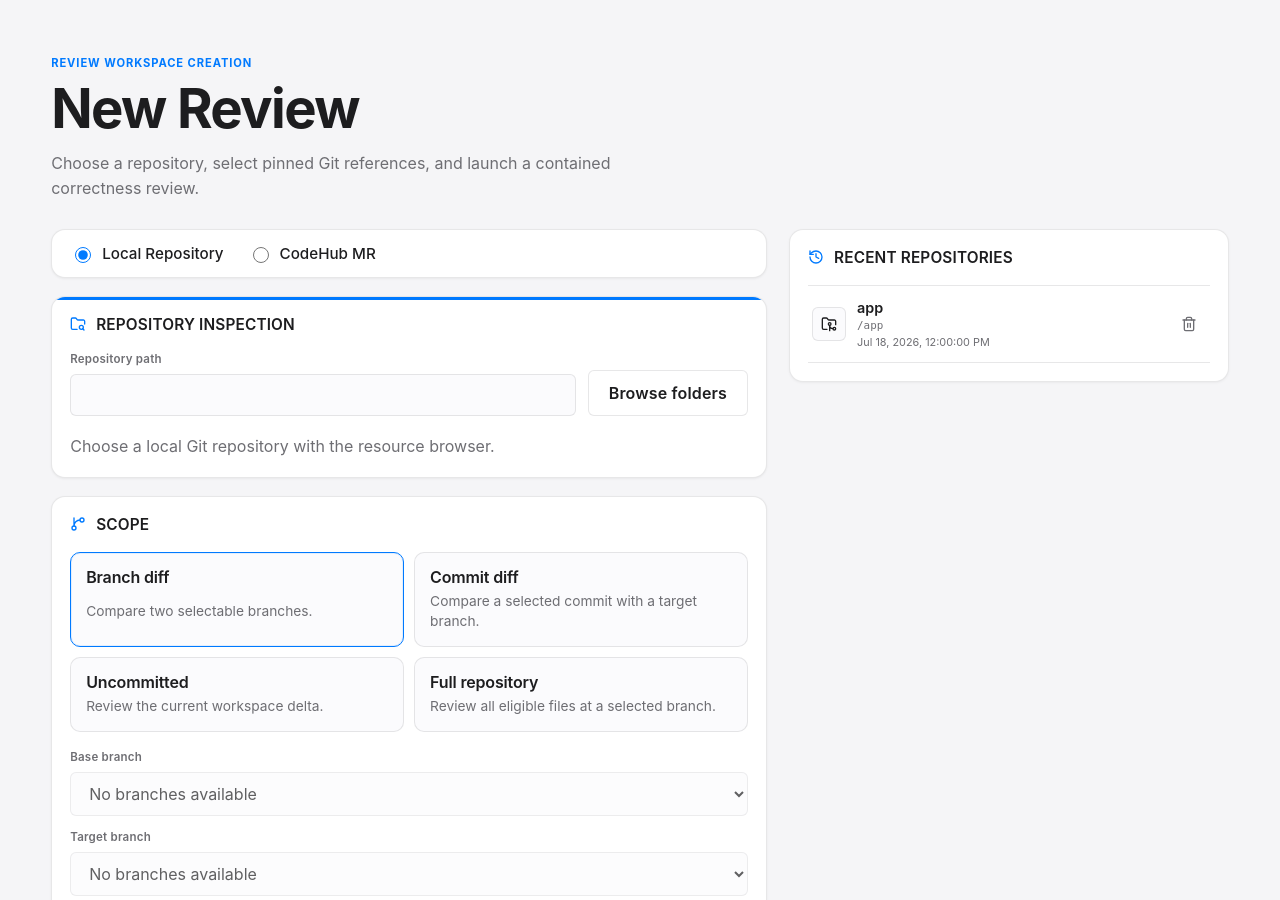
deletes a recent repository shortcut without selecting it
Click the button named "Remove recent repository app" at (1189, 324), box top-left (1172, 307), bottom-right (1206, 341)
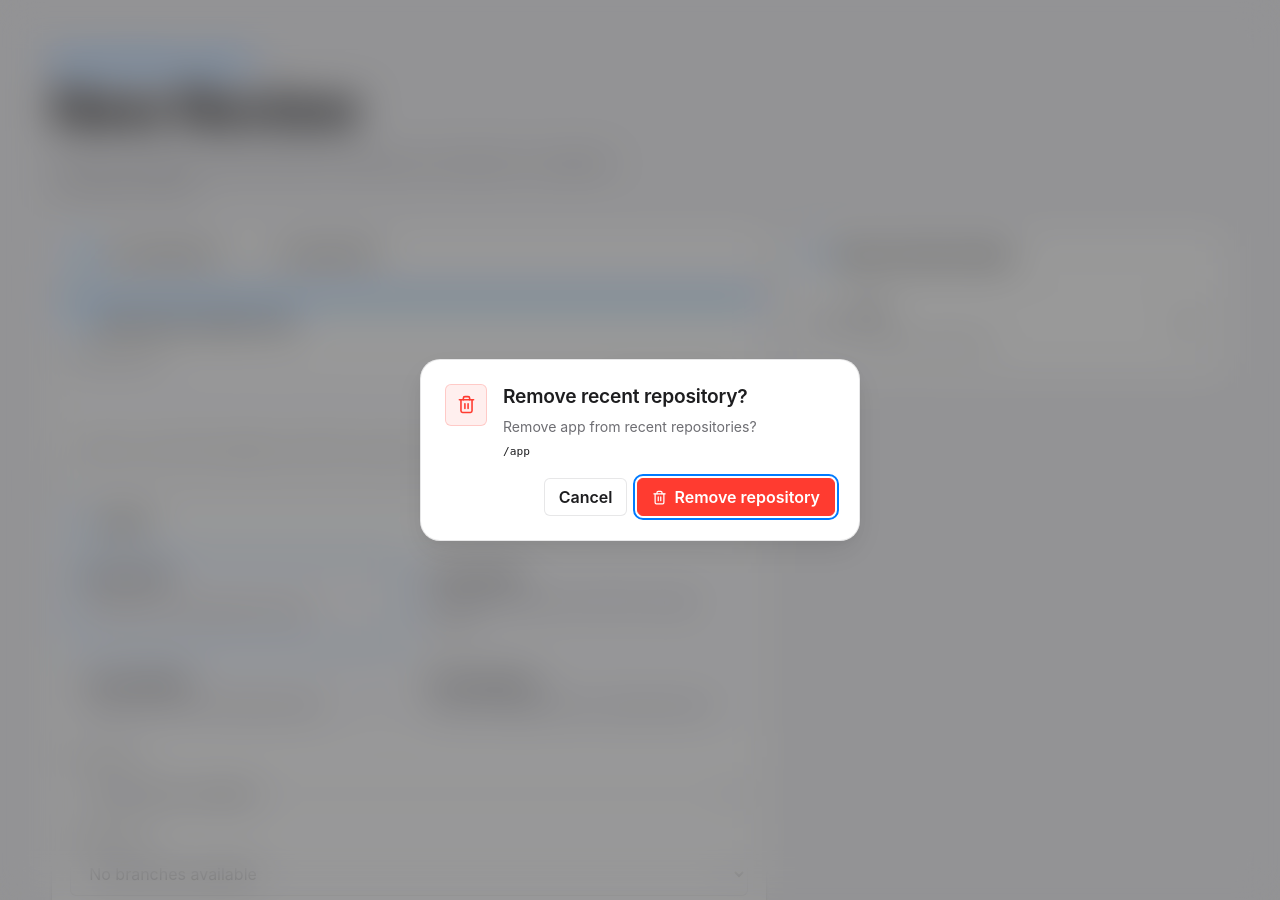
Expected: the dialog "Remove recent repository?" is shown, top-left (420, 359), bottom-right (860, 541)
Expected: the text "Remove app from recent repositories?" is shown, top-left (503, 418), bottom-right (757, 435)
Click the button "Remove repository" at (736, 497), box top-left (638, 478), bottom-right (835, 516)
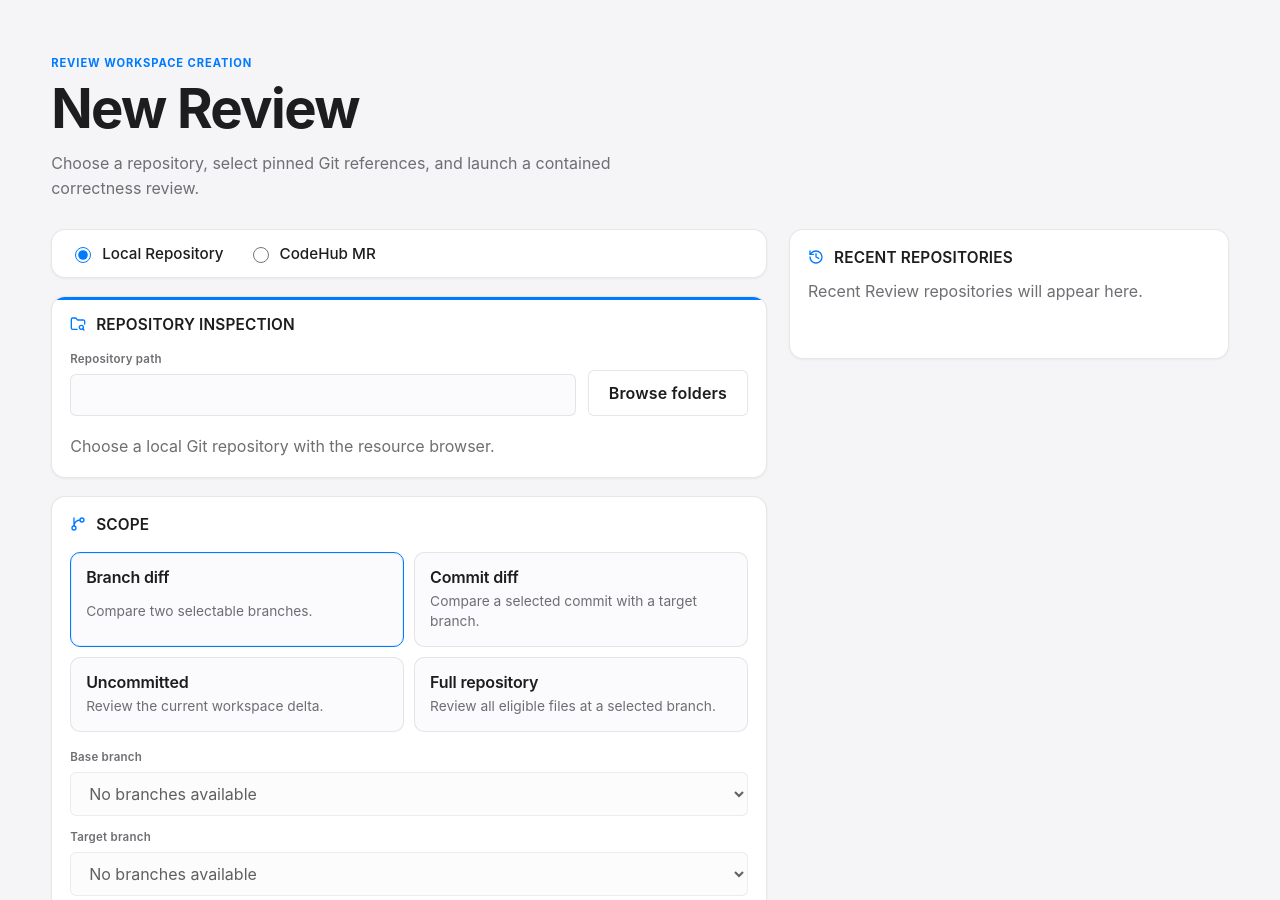
Expected: the text "Recent Review repositories will appear here." is shown, top-left (808, 281), bottom-right (1143, 301)
